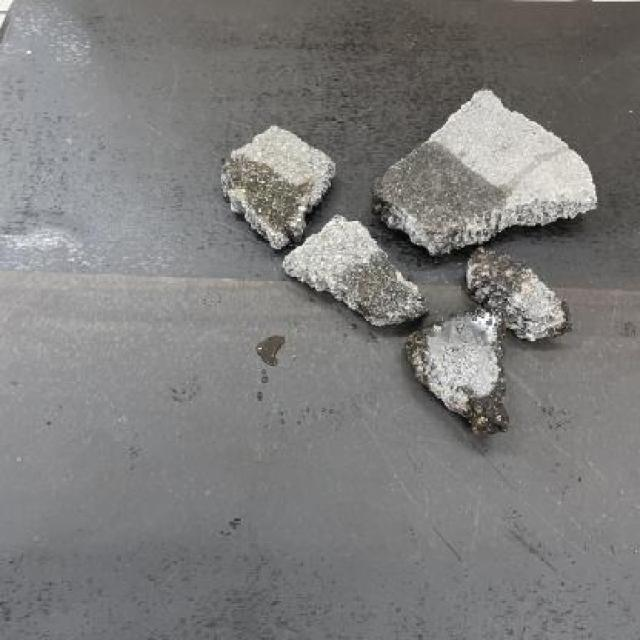Road Debris: (373, 132, 504, 234), (342, 254, 420, 330), (224, 160, 304, 234), (418, 309, 507, 363), (466, 243, 522, 308)
